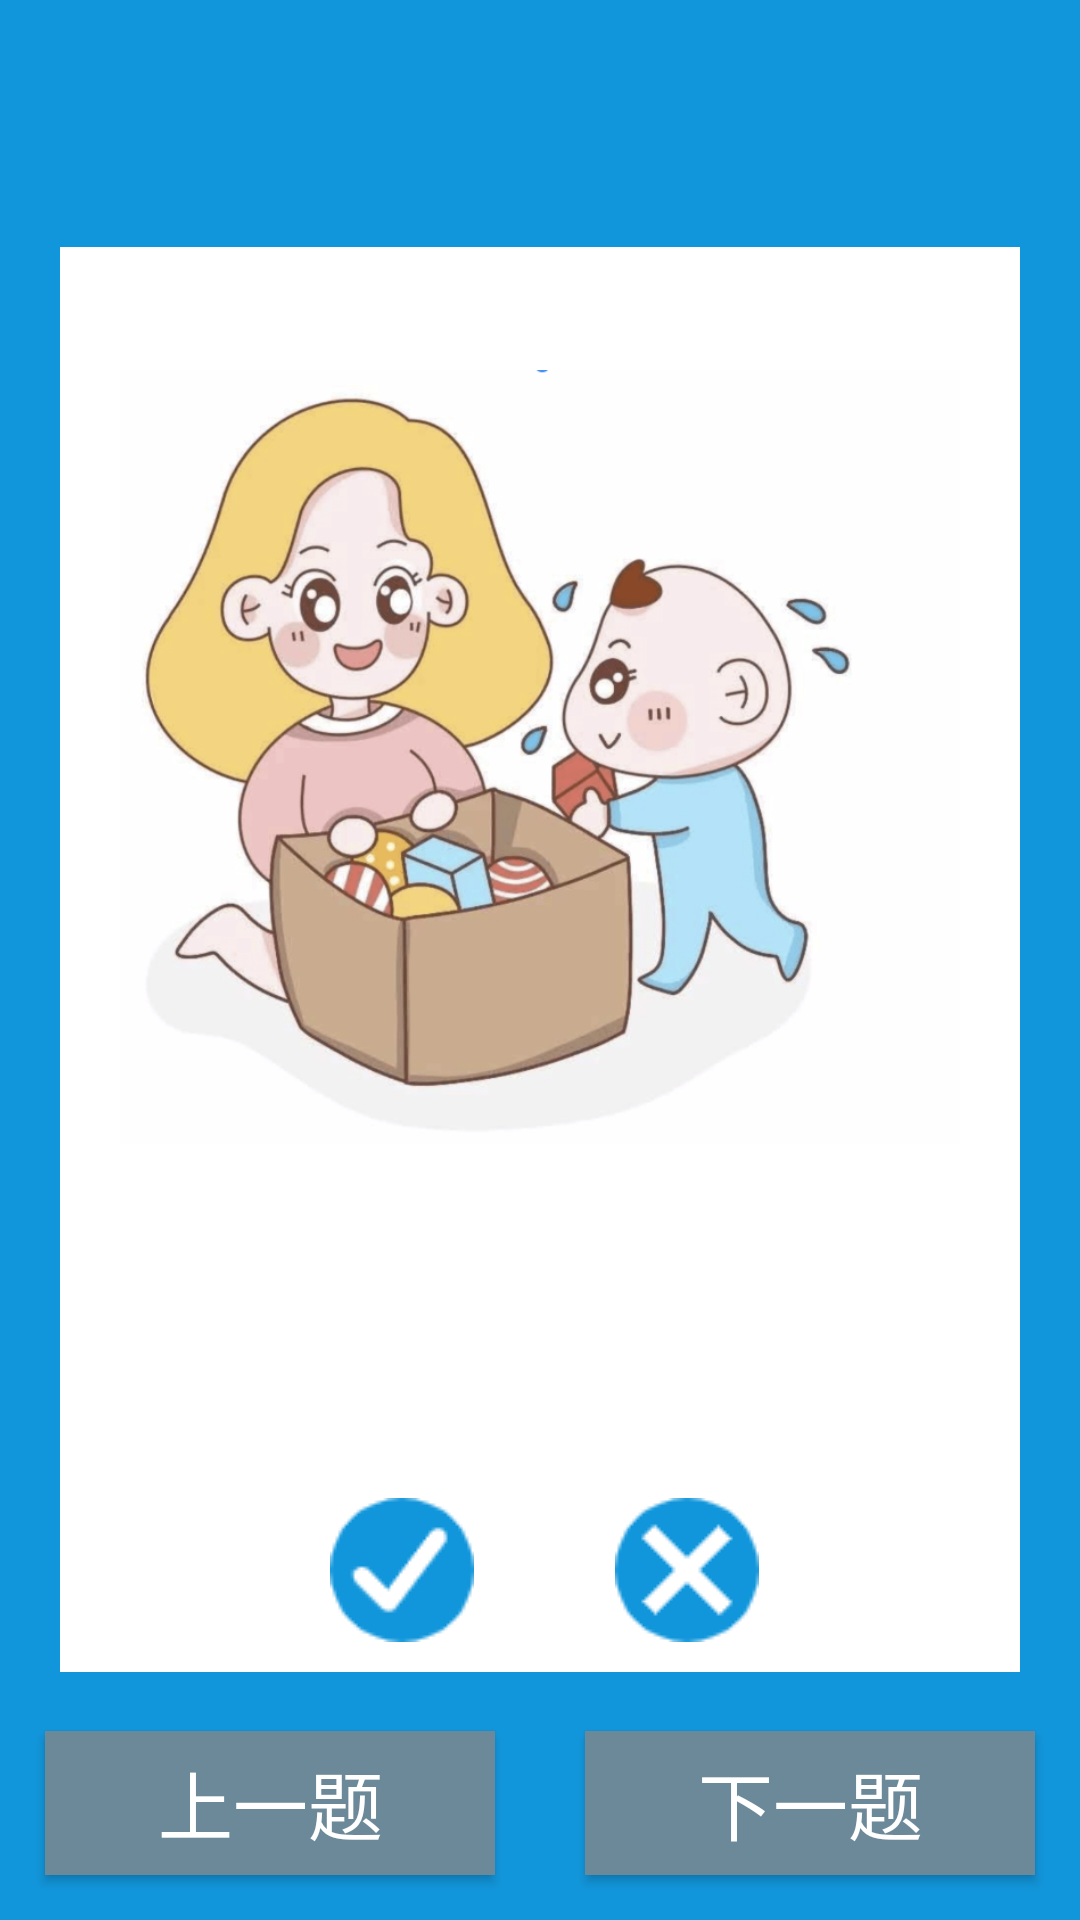

Icons on this 1080px×1920px Android screen, each with the point to tap as (x=x, y=y):
selectionselector: (x=402, y=1570)
selectnoselector: (x=687, y=1570)
